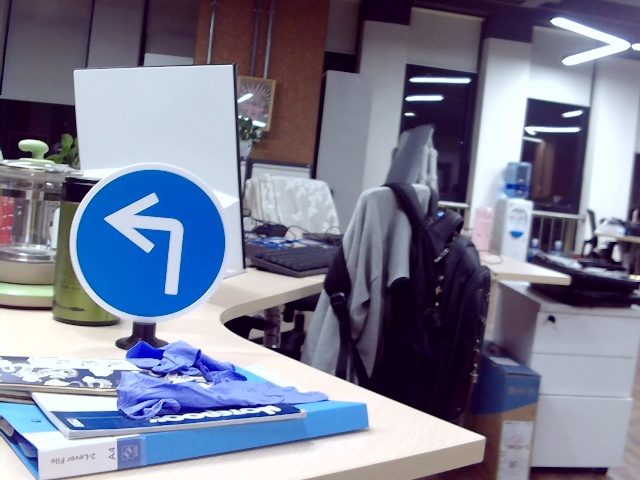turn_left: (107, 189, 185, 296)
